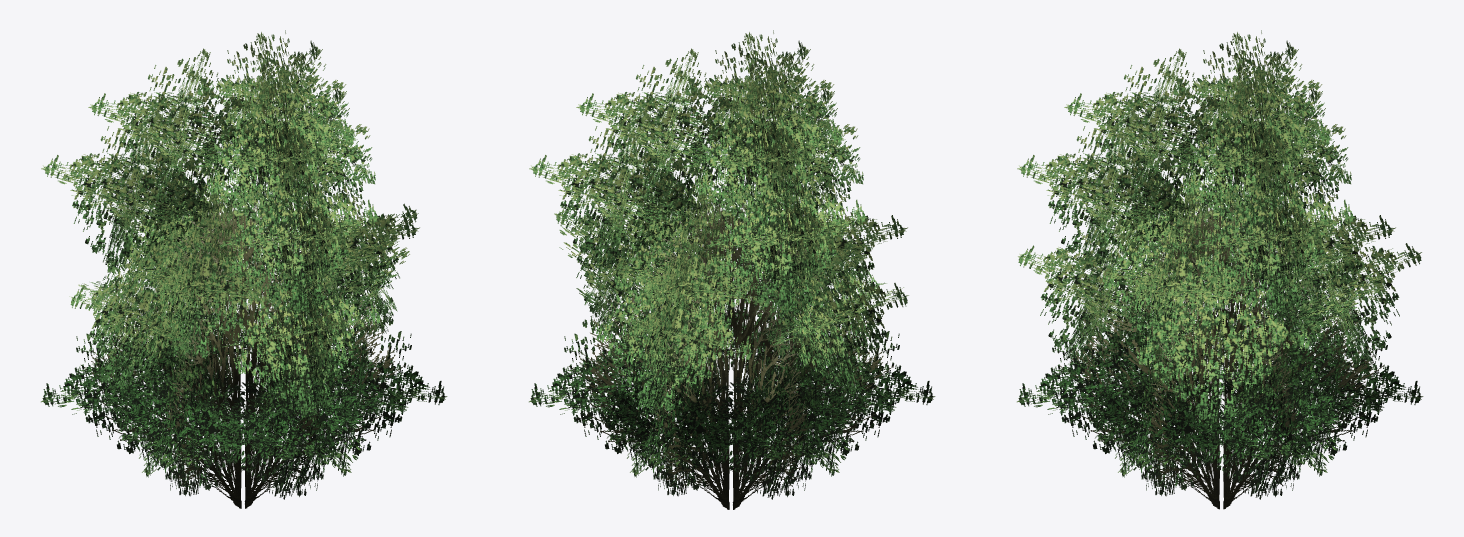
File: grauwe_wilg_2.fbx
3 renders of one model, left to right at view 1: azimuth 30°, elevation 25°; view 2: azimuth 150°, elevation 25°; view 3: azimuth 270°, elevation 25°, orthographic.
Visible parts, largest first — view 1: grauwe_wilg_2, tak; view 2: grauwe_wilg_2, tak; view 3: grauwe_wilg_2, tak.
Part boxes in pixels (box(x1,y1,x2,y2)): grauwe_wilg_2: box(41, 30, 447, 499); tak: box(81, 202, 405, 508); grauwe_wilg_2: box(529, 30, 935, 499); tak: box(568, 203, 893, 509); grauwe_wilg_2: box(1017, 30, 1423, 499); tak: box(1059, 202, 1383, 509).
Size of the model in its own units: 960 by 1127 by 970.
